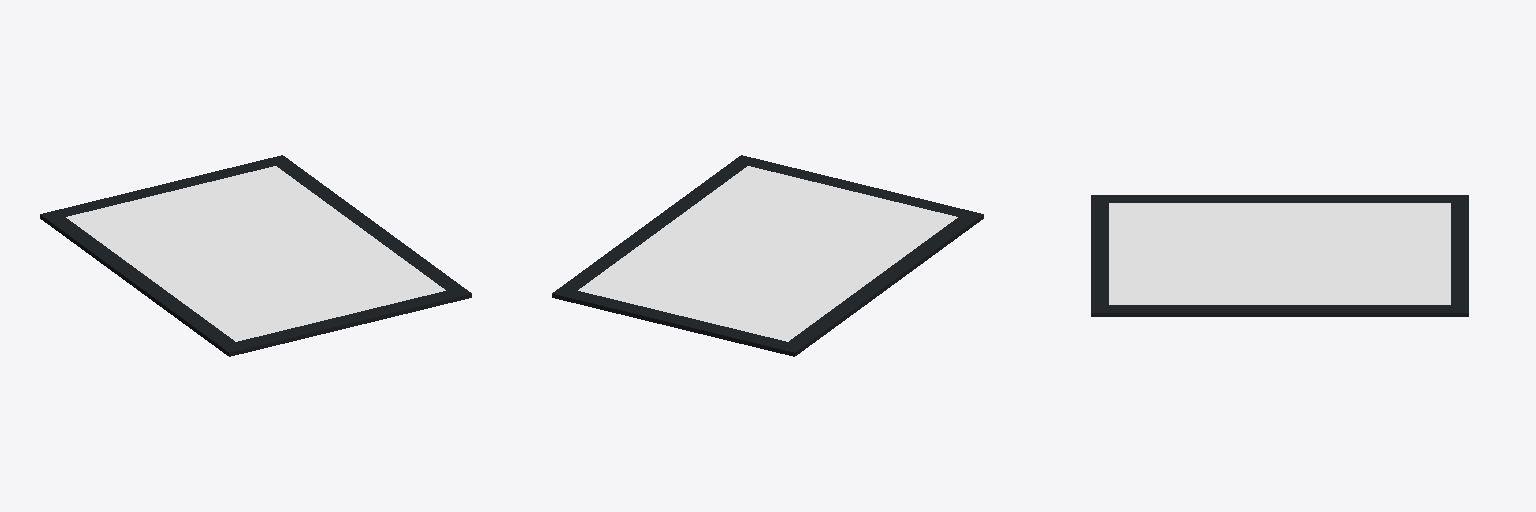
File: tinker.obj
3 views of the same model, side by side, from view 1: azimuth 30°, elevation 25°; view 2: azimuth 150°, elevation 25°; view 3: azimuth 270°, elevation 25° (orthographic).
Visible parts, largest first — view 1: obj_0; view 2: obj_0; view 3: obj_0.
Boxes of the visible parts, <box> form: obj_0: <box>40,155,471,356</box>; obj_0: <box>552,155,983,356</box>; obj_0: <box>1091,195,1468,316</box>.
Bounding box in the file's own units: 60 × 1 × 81.